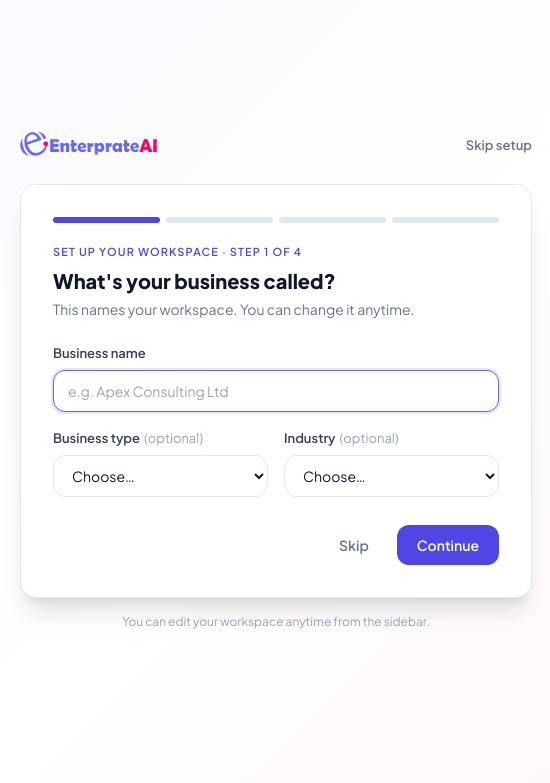
Scenario: P2-8 onboarding checks what it is given › needs a business name to continue, and a website that looks like one
The image size is (550, 783).
Click the button "Continue".
click(448, 545)  # box [397,525,499,565]
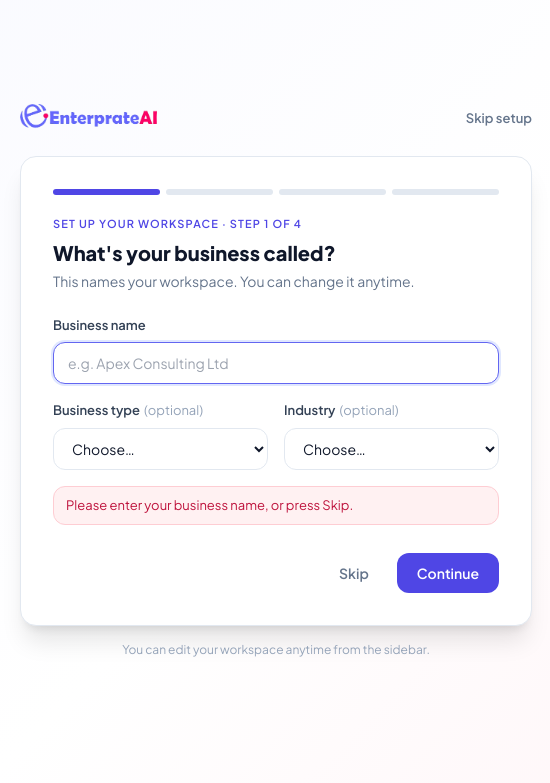
Check: the heading "What's your business called?" is shown, box [53,240,336,265]
Check: the text "Please enter your business name, or press Skip." is shown, box [53,486,499,525]
Type "Apex" into the field with placeholder "e.g. Apex Consulting Ltd".
click(276, 363); type("Apex")  # box [53,342,499,384]
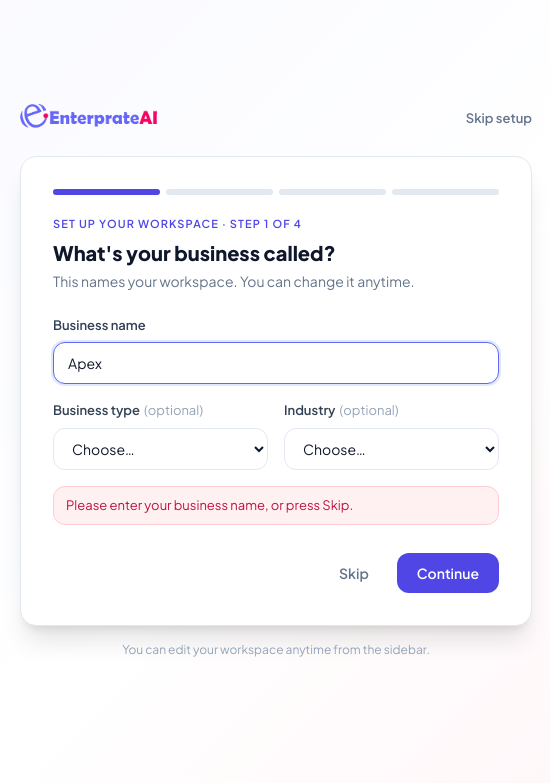
Click the button "Continue".
click(448, 573)  # box [397,553,499,593]
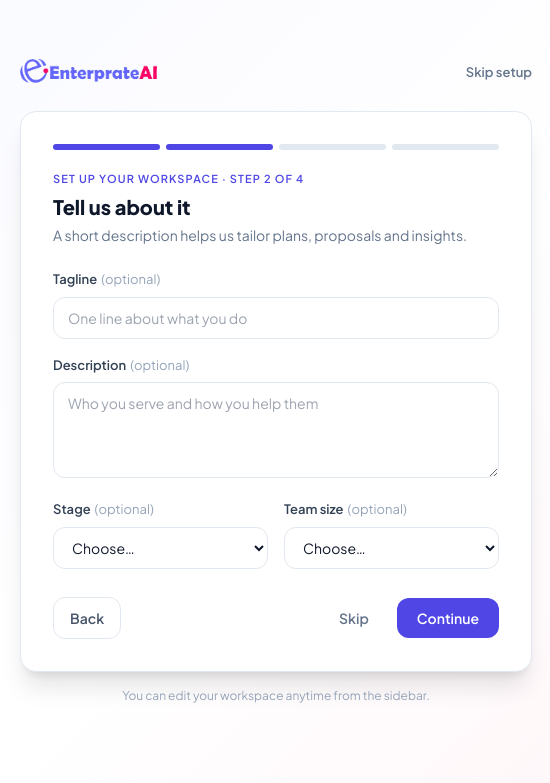
Click the button "Continue".
click(448, 618)  # box [397,598,499,638]
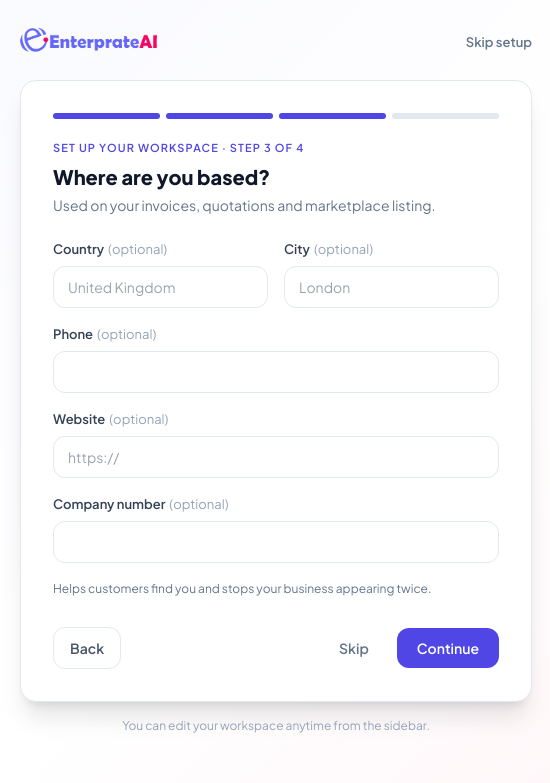
Type "not a url" into the field with placeholder "https://".
click(276, 457); type("not a url")  # box [53,436,499,478]
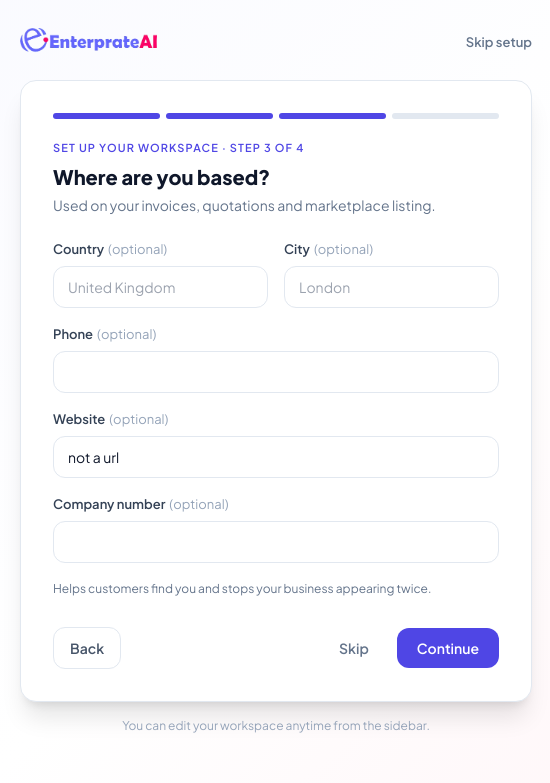
Click the button "Continue".
click(448, 648)  # box [397,628,499,668]
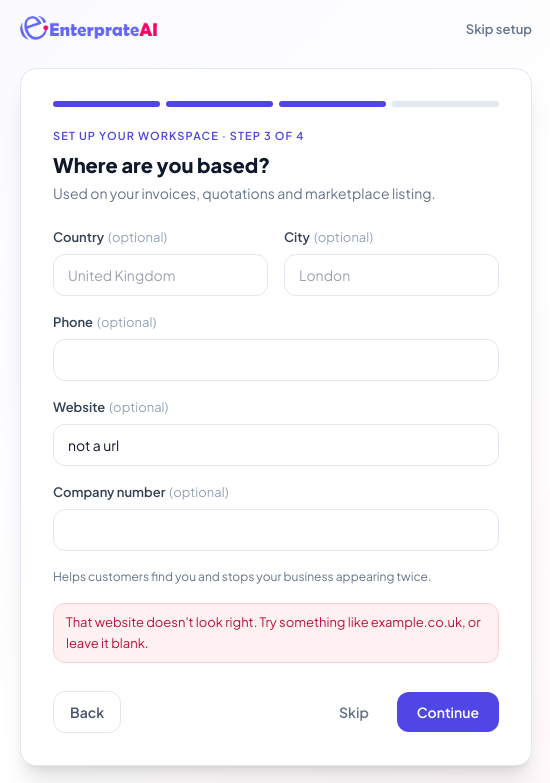
Check: the heading "Where are you based?" is shown, box [53,152,270,177]
Check: the text "That website doesn't look right" is shown, box [66,614,481,651]
